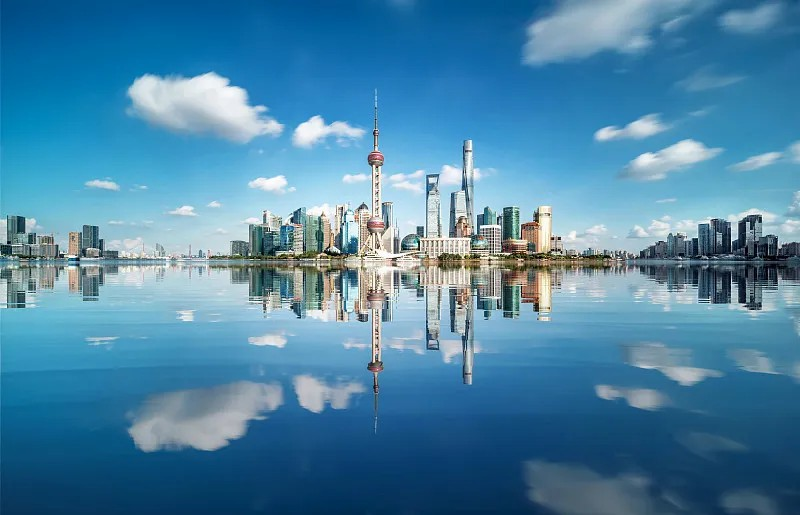Oriental: (358, 89, 390, 255)
